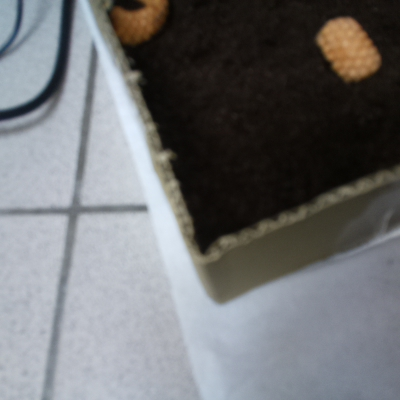eggs: (312, 9, 388, 89), (101, 1, 179, 47)
